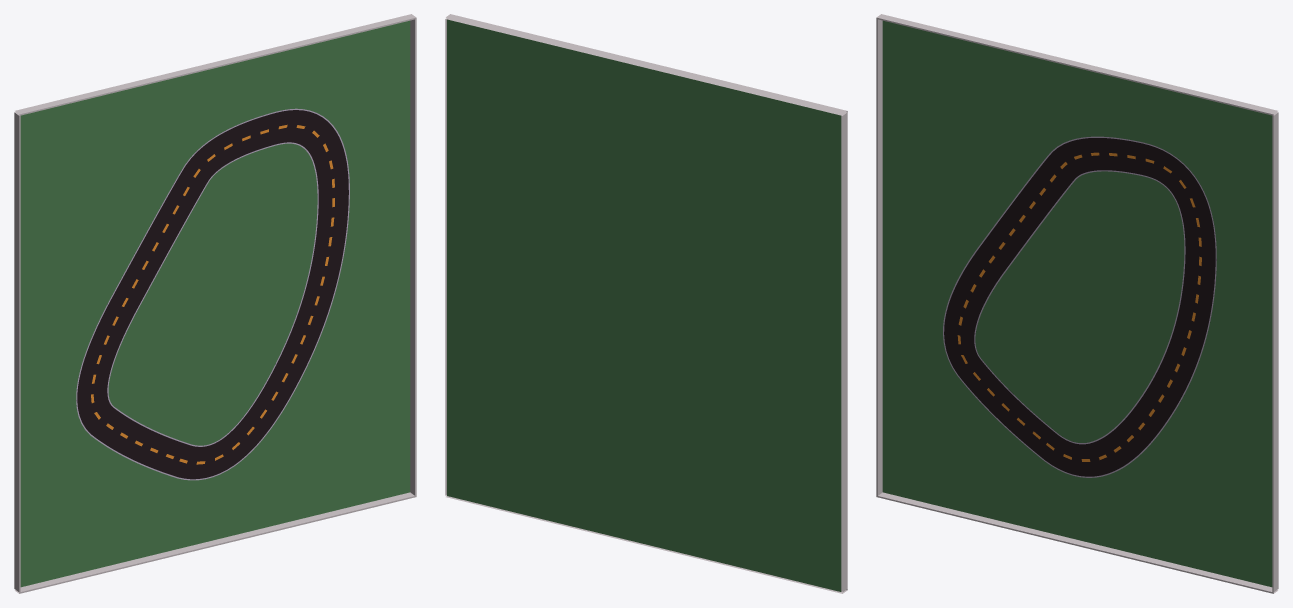
The model's file is track.obj.
The picture shows the model from 3 angles, left to right: view 1: azimuth 30°, elevation 25°; view 2: azimuth 150°, elevation 25°; view 3: azimuth 330°, elevation 25°; orthographic projection.
Size of the model in its own units: 14.05 by 16.21 by 0.3.
5 materials, 5 textured.
